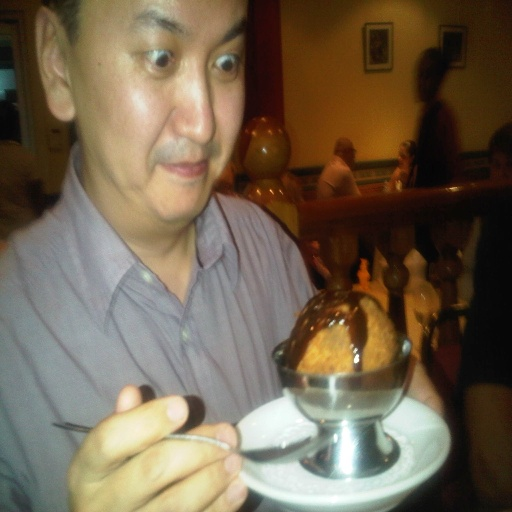hand: (47, 394, 257, 497), (402, 352, 444, 417)
